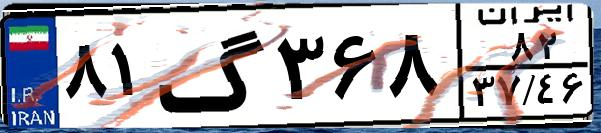1: (110, 28, 156, 98)
2: (537, 27, 568, 80)
3: (270, 28, 330, 110), (470, 70, 495, 125)
4: (535, 70, 560, 125)
6: (330, 28, 385, 110), (560, 70, 590, 125)
7: (495, 70, 520, 125)
8: (385, 28, 445, 110), (57, 26, 110, 100), (508, 27, 537, 80)
گ: (156, 12, 270, 120)
